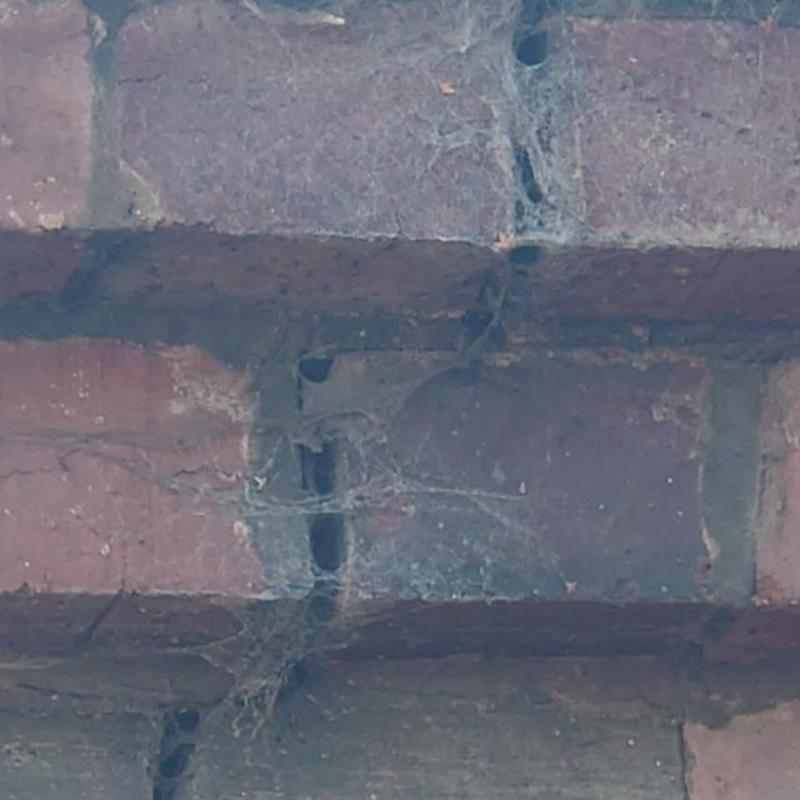pothole: (150, 356, 352, 799), (463, 1, 574, 346), (84, 542, 127, 639), (339, 345, 471, 355)
